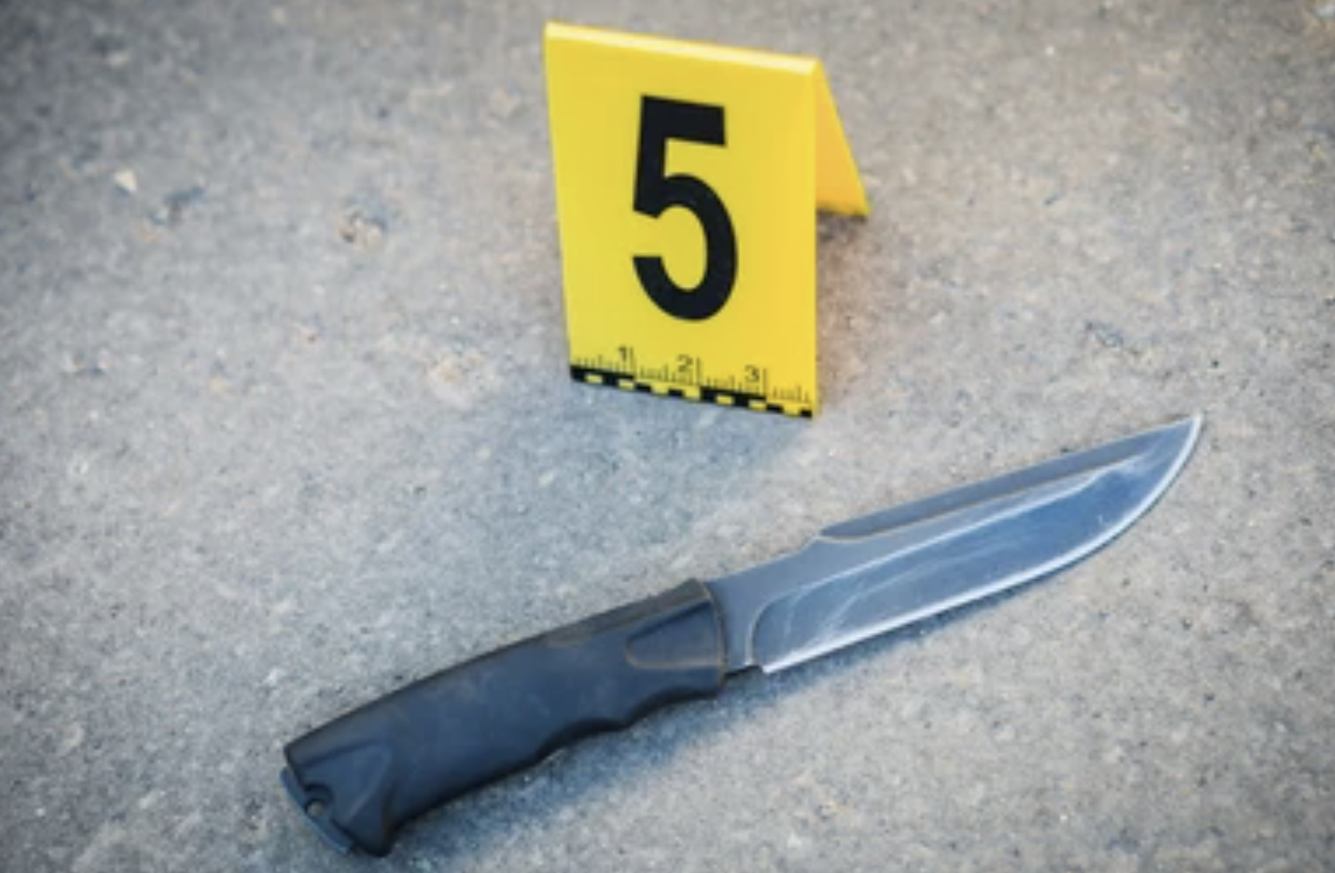knife_44.png: (260, 372, 1251, 855)
